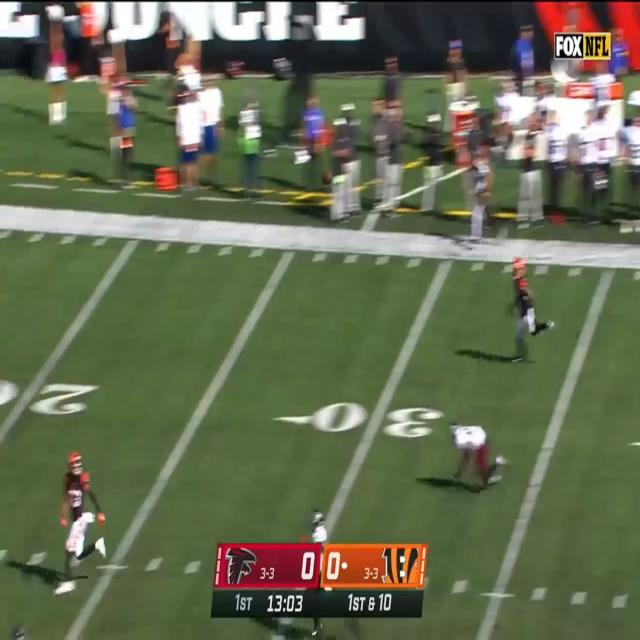Ball: (322, 170, 333, 186)
